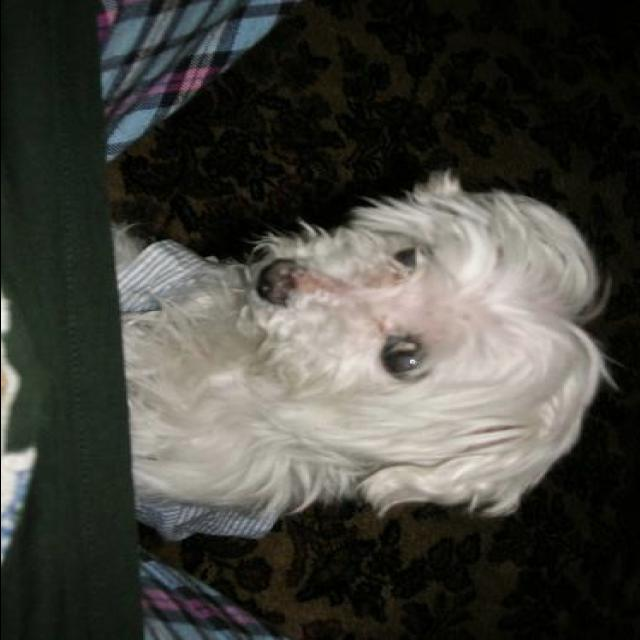maltese_dog: (113, 170, 609, 536)
